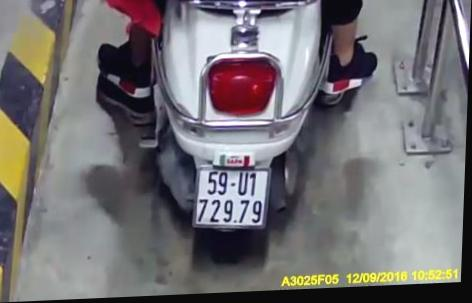License_Plate: (182, 150, 276, 237)
